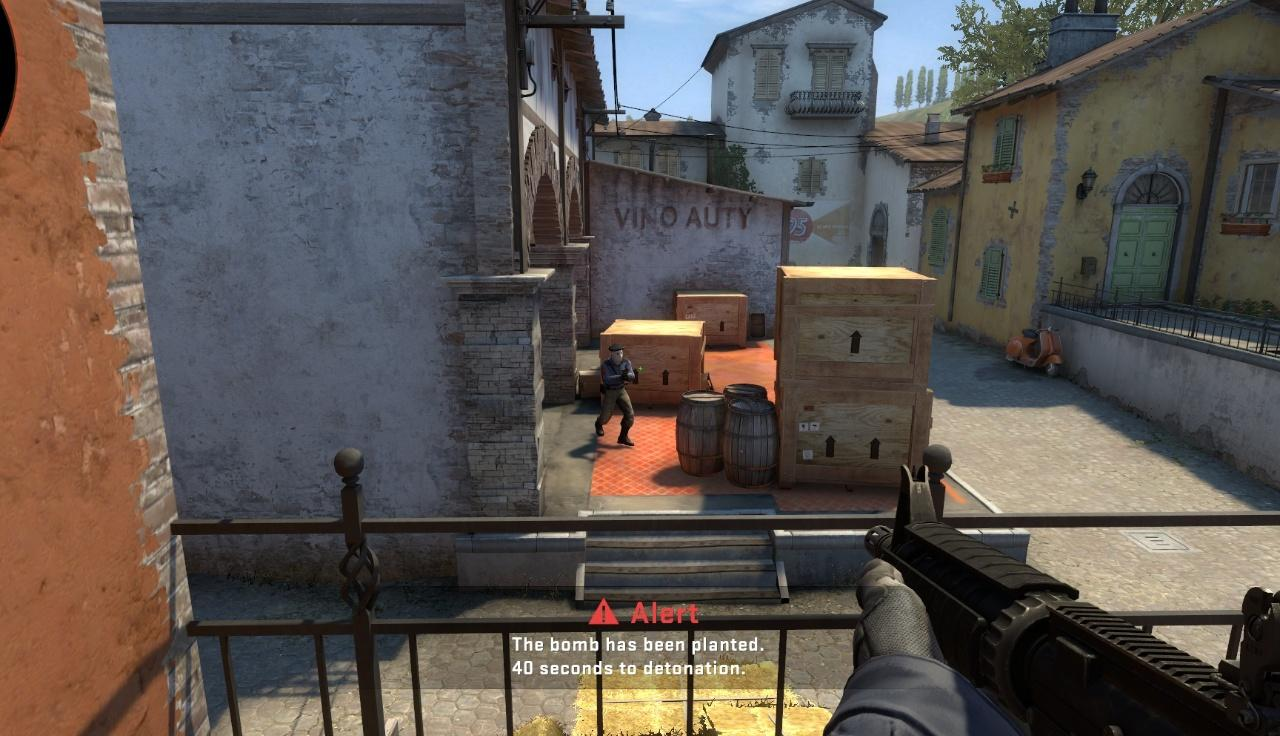rifle: (842, 461, 1280, 736)
tt: (601, 344, 635, 445)
tthead: (609, 345, 625, 365)
